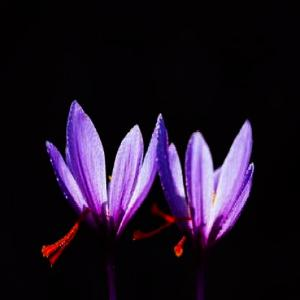Saffron: (46, 100, 166, 260), (160, 118, 258, 269)
